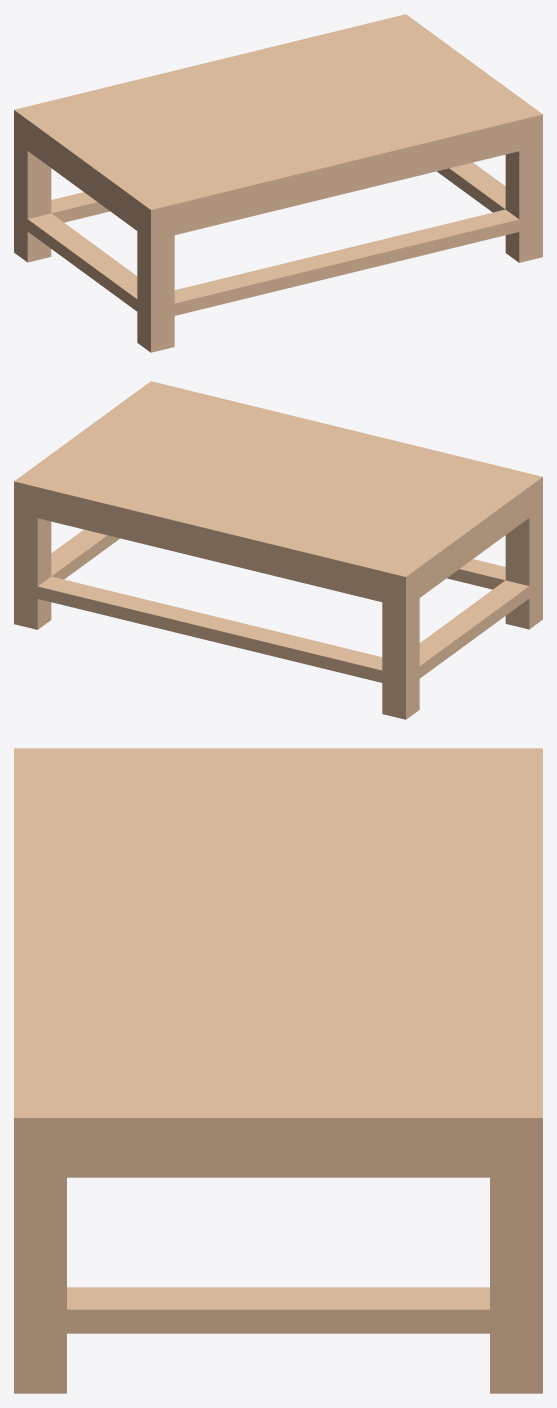
File: tableCoffee.gltf
3 renders of one model, top to bottom at view 1: azimuth 30°, elevation 25°; view 2: azimuth 150°, elevation 25°; view 3: azimuth 270°, elevation 25°, orthographic. The views are drawn at different scales.
Parts seen in each view (by area): view 1: tableCoffee(Clone); view 2: tableCoffee(Clone); view 3: tableCoffee(Clone).
Part boxes in pixels (x1=…): tableCoffee(Clone): x1=14, y1=14, x2=542, y2=352; tableCoffee(Clone): x1=14, y1=381, x2=542, y2=719; tableCoffee(Clone): x1=14, y1=748, x2=542, y2=1393.
Bounding box in the file's own units: 0.661 × 0.23 × 0.4.
